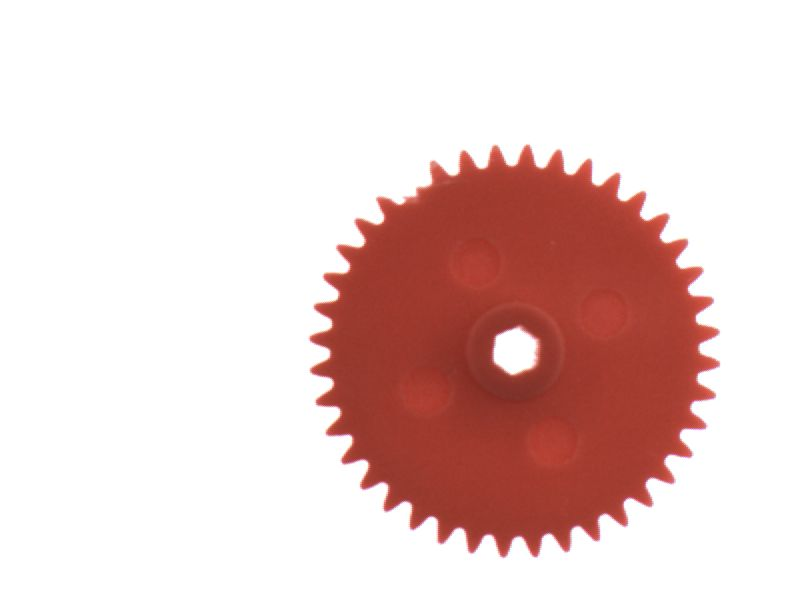defect_lack: (379, 161, 442, 212)
